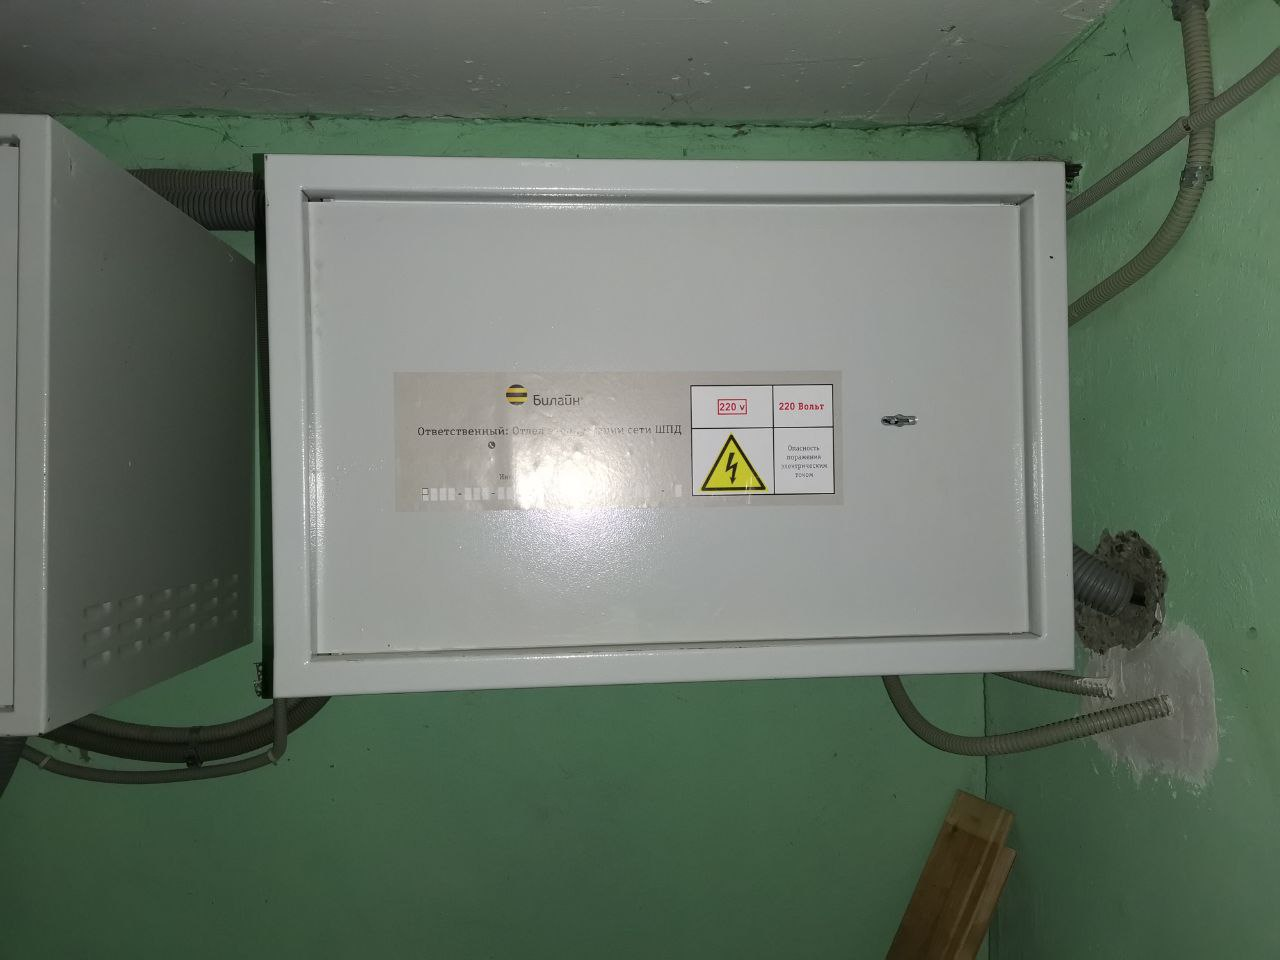shta-7m: (240, 140, 1093, 708)
